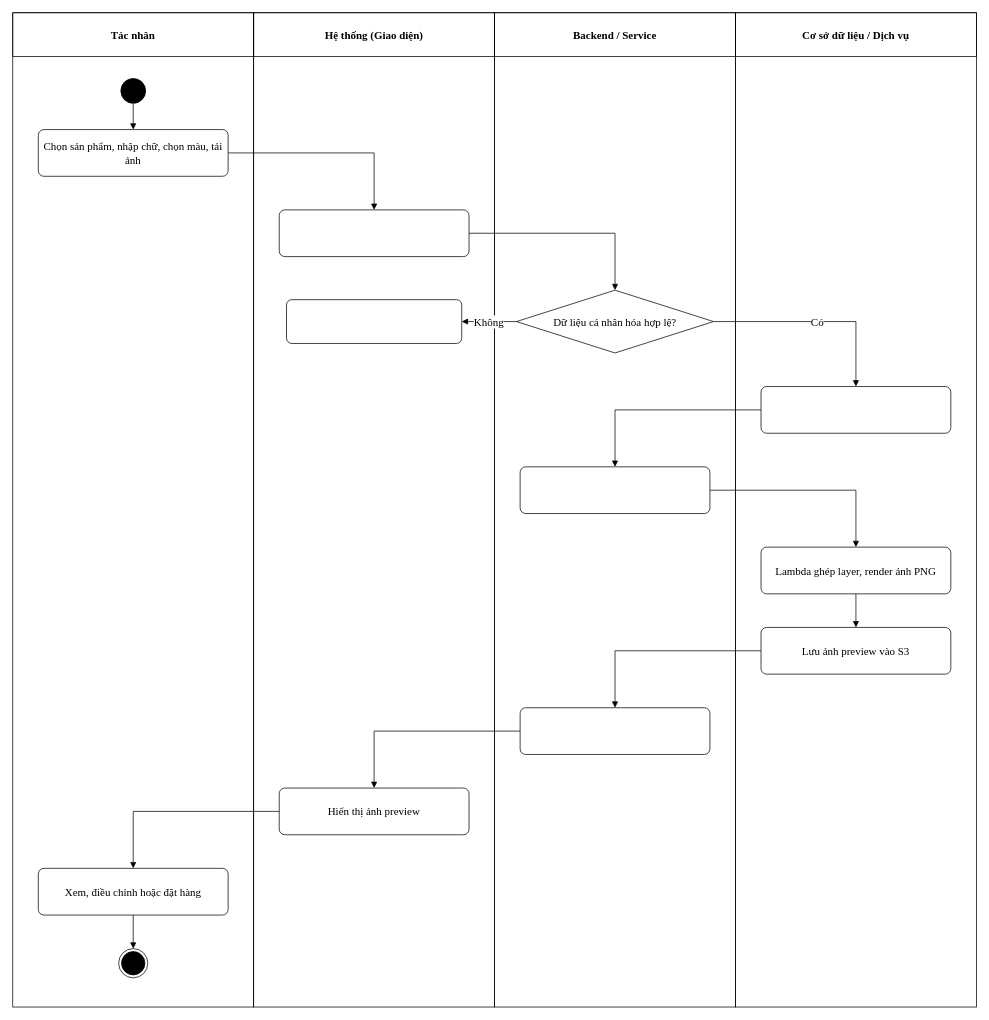
Image size: 989x1020. Some labels were removed from this diagram. The shapes that lost their labels are listed below. From the top down, each one's box as (x1, y1, x2, y2) in pixels, then its label:
(278, 209, 469, 257): Gửi mutation createPreview
(286, 299, 462, 343): Hiển thị lỗi trường bắt buộc
(760, 386, 951, 433): Đọc template, layer, artwork (Redis / DB)
(519, 466, 710, 514): Gửi payload render tới AWS Lambda
(519, 707, 710, 754): Ghi bản ghi preview, trả URL ảnh
